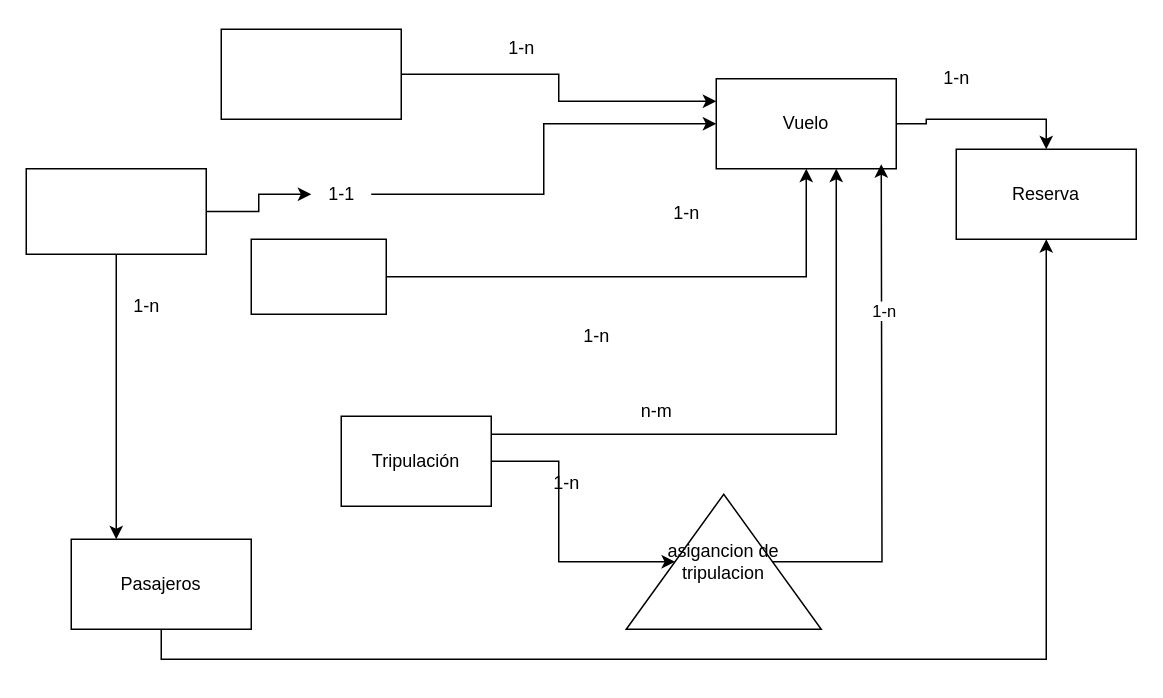
Image size: 1163x698. Some labels were removed from this diagram. Each missing label, with the centre of its shape:
Avion: [310,73]
Ciudad: [318,276]
Horario de vuelos: [115,210]
